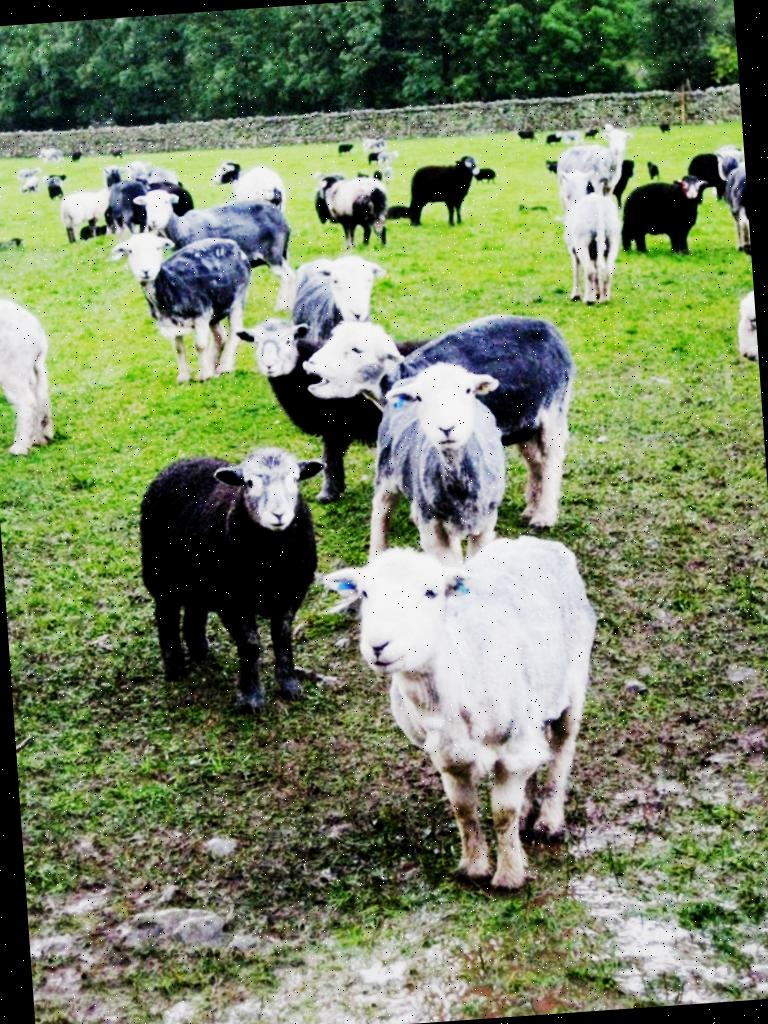Sheep: (112, 412, 348, 743), (400, 140, 496, 221)
